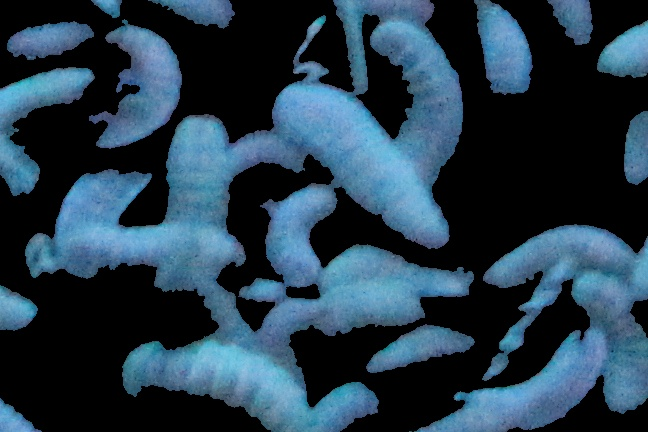larvae: (279, 80, 453, 245), (122, 330, 306, 424), (365, 24, 469, 178), (80, 32, 183, 153), (461, 333, 608, 413), (61, 161, 149, 284), (485, 221, 633, 290), (317, 243, 478, 301), (163, 102, 231, 229), (587, 292, 648, 416), (264, 184, 335, 287), (150, 264, 251, 332), (74, 228, 254, 264), (476, 1, 536, 105), (1, 64, 93, 123), (362, 327, 477, 367), (317, 285, 425, 326), (5, 20, 99, 58), (141, 1, 237, 27)
